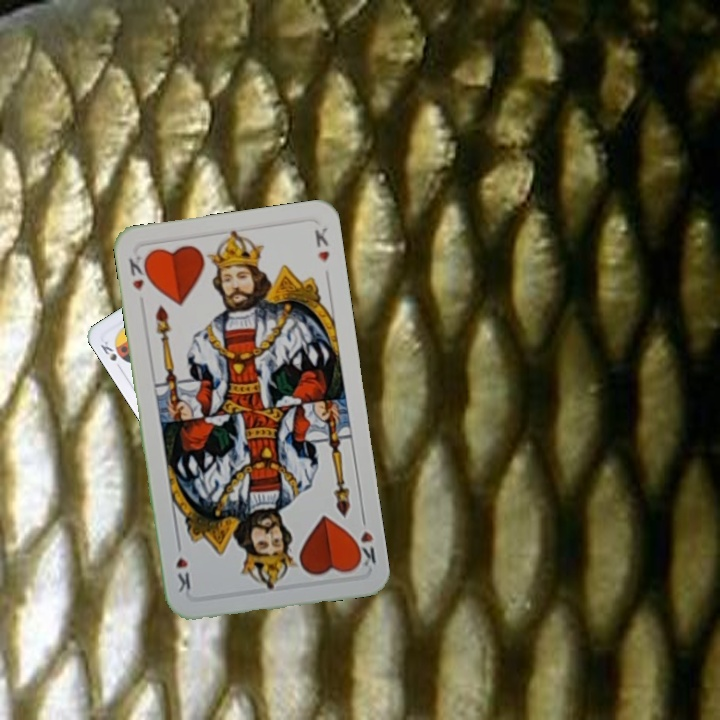HK: (349, 511, 378, 569), (125, 252, 153, 293)
SK: (96, 337, 128, 366)
